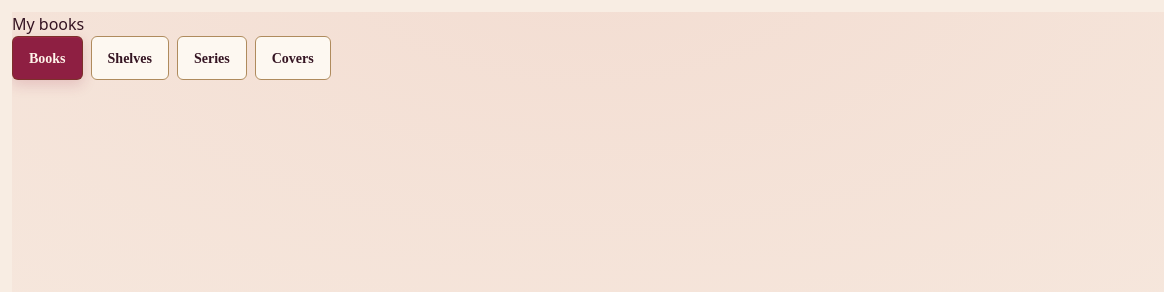
Scenario: personal library navigation › moves between real destinations and keeps the selected Books filter on a repeated press
Expected: the heading "My books" is shown, [12, 13, 84, 35]
Click the link "Books" at (47,58), box [12, 36, 83, 80]
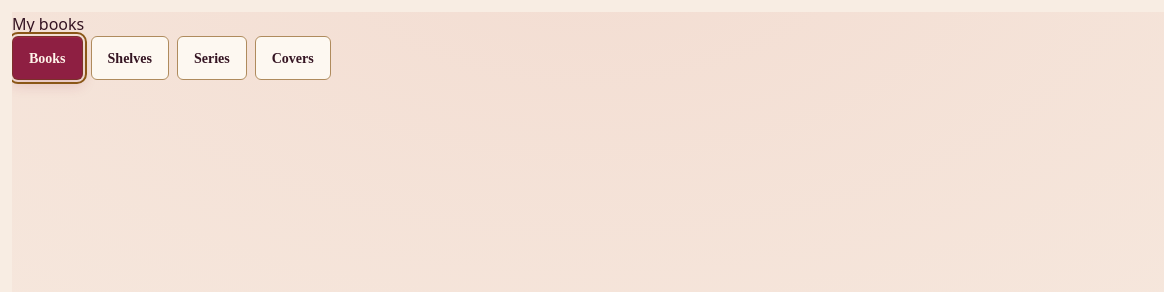
Click the link "Shelves" at (130,58), box [91, 36, 169, 80]
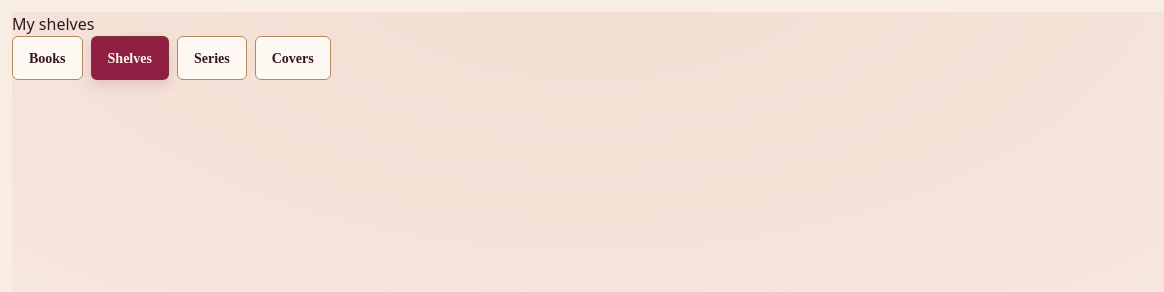
Expected: the heading "My shelves" is shown, [12, 13, 94, 35]
Click the link "Series" at (212,58), box [177, 36, 247, 80]
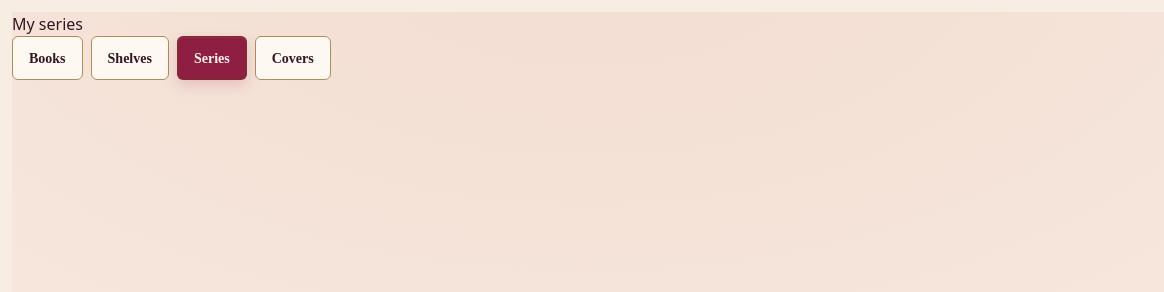
Expected: the heading "My series" is shown, [12, 13, 83, 35]
Click the link "Covers" at (293,58), box [255, 36, 331, 80]
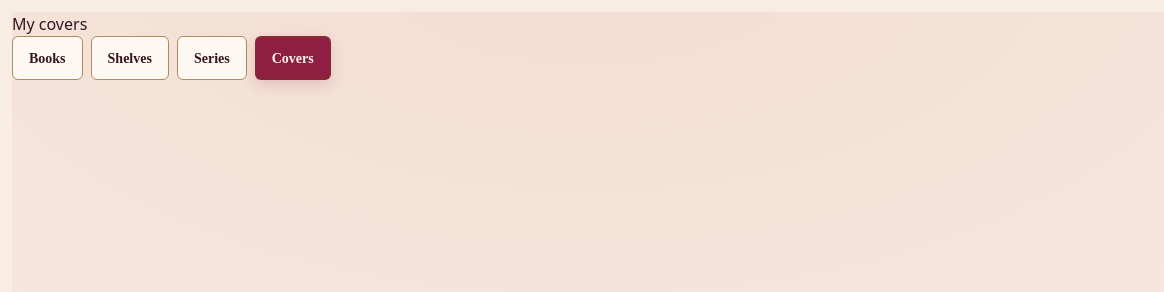
Expected: the heading "My covers" is shown, [12, 13, 87, 35]
Click the link "Books" at (47,58), box [12, 36, 83, 80]
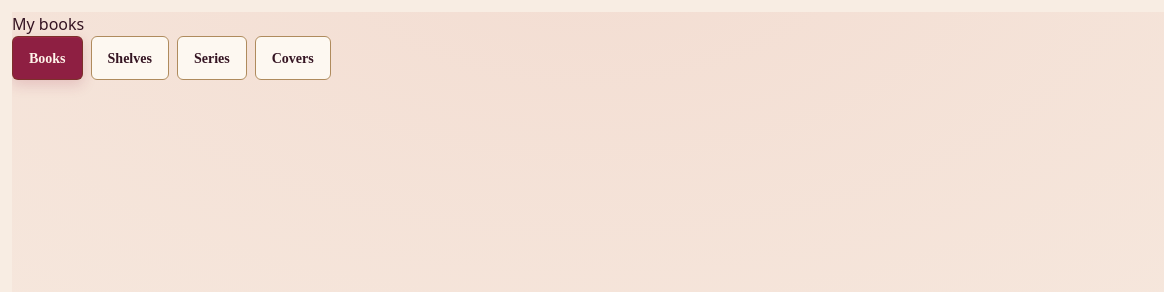
Expected: the heading "My books" is shown, [12, 13, 84, 35]
